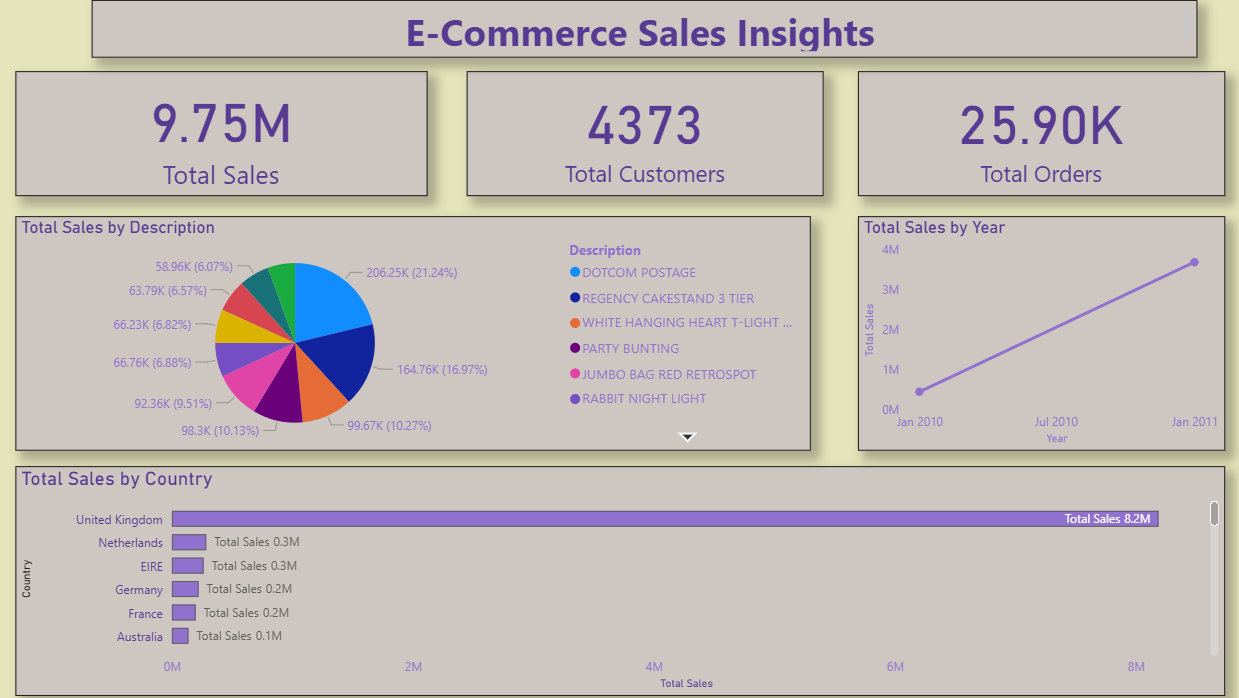

This screenshot's page, from the dashboard's own definition file:
{"tool":"powerbi","page":{"name":"Page 1","canvas":[1280,720],"ordinal":0},"visuals":[{"type":"clusteredBarChart","fields":{"Category":["data.Country"],"Y":["data.Total Sales"]},"box":[22,475.7,1209.4,229.9],"z":0},{"type":"pieChart","fields":{"Category":["data.Description"],"Y":["data.Total Sales"]},"box":[22,226.2,794.8,234.8],"z":1000},{"type":"lineChart","fields":{"Category":["data.Date.Variation.Date Hierarchy.Year","data.Date.Variation.Date Hierarchy.Quarter","data.Date.Variation.Date Hierarchy.Month","data.Date.Variation.Date Hierarchy.Day"],"Y":["data.Total Sales"]},"box":[864.5,226.2,366.8,234.8],"z":2000},{"type":"card","fields":{"Values":["data.Total Sales"]},"box":[22,80.7,412.1,124.7],"z":3000},{"type":"card","fields":{"Values":["data.Total Orders"]},"box":[864.5,80.7,366.8,124.7],"z":4000},{"type":"card","fields":{"Values":["data.Total Customers"]},"box":[473.2,80.7,357.1,124.7],"z":5000},{"type":"textbox","box":[99,9.8,1105.4,57.5],"z":6000}]}

Visuals, with their boxes in screenshot pixels (x1, y1, x2, y2), scaled from the page's 1280x720 canvas onto the 1239x698 screenshot:
clusteredBarChart - data.Country x data.Total Sales: {"x1": 21, "y1": 461, "x2": 1192, "y2": 684}
pieChart - data.Description x data.Total Sales: {"x1": 21, "y1": 219, "x2": 791, "y2": 447}
lineChart - data.Date.Variation.Date Hierarchy.Year x data.Date.Variation.Date Hierarchy.Quarter: {"x1": 837, "y1": 219, "x2": 1192, "y2": 447}
card - data.Total Sales: {"x1": 21, "y1": 78, "x2": 420, "y2": 199}
card - data.Total Orders: {"x1": 837, "y1": 78, "x2": 1192, "y2": 199}
card - data.Total Customers: {"x1": 458, "y1": 78, "x2": 804, "y2": 199}
textbox: {"x1": 96, "y1": 10, "x2": 1166, "y2": 65}
